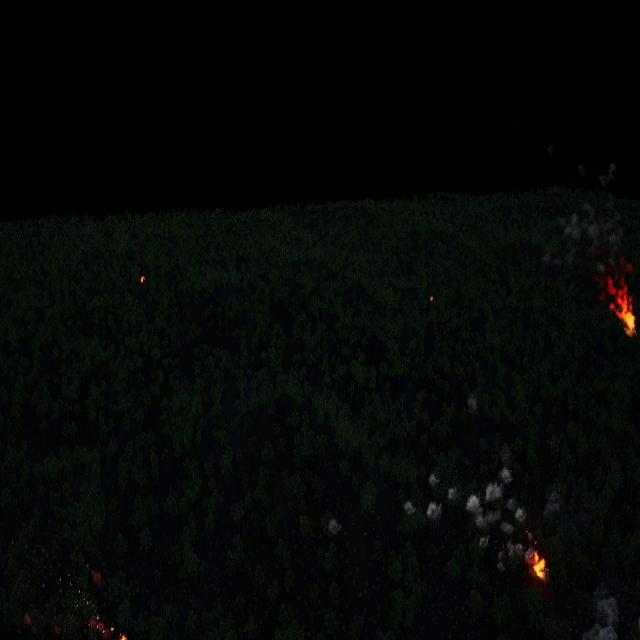fire: (596, 259, 637, 335), (91, 618, 126, 640), (531, 552, 546, 582), (140, 275, 146, 286), (430, 296, 433, 302)
smoke: (465, 448, 530, 570), (561, 200, 626, 258), (579, 583, 620, 640), (592, 161, 618, 190), (545, 486, 564, 518), (426, 501, 441, 520), (326, 516, 340, 536), (465, 392, 477, 413), (403, 500, 416, 516), (92, 568, 103, 584), (428, 471, 438, 486), (25, 614, 34, 630), (448, 488, 455, 500)
